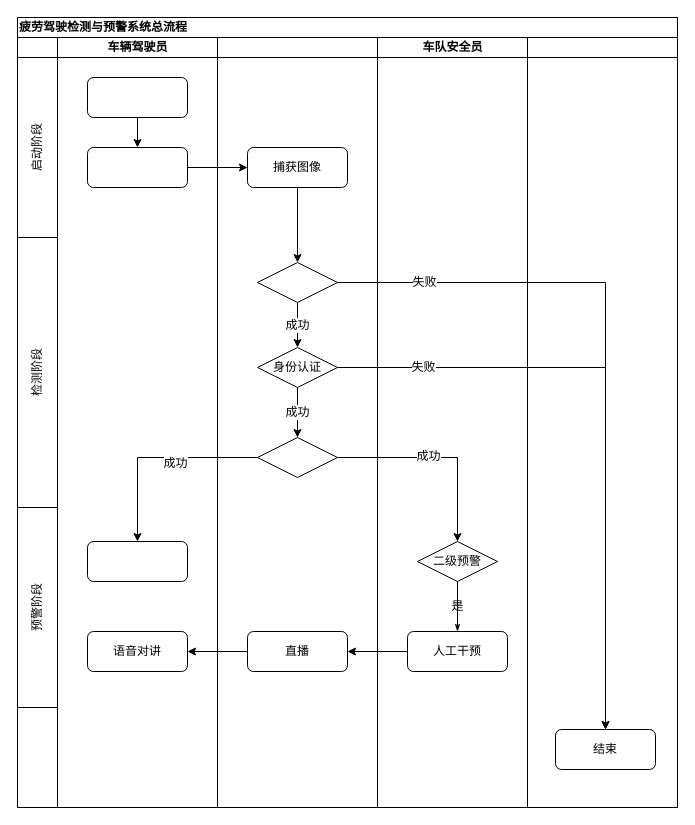
Some shapes in this 695 by 825 pixel diagram are drawn without their labels. Here are the shapes that lost their labels. From the top down, the box of each, then its label:
(86, 76, 188, 118): 启动车辆
(86, 146, 188, 188): 启动设备
(256, 262, 338, 302): 驾驶员在岗
(216, 36, 378, 808): 终端设备
(256, 436, 338, 478): 疲劳检测
(86, 540, 188, 582): 声音预警
